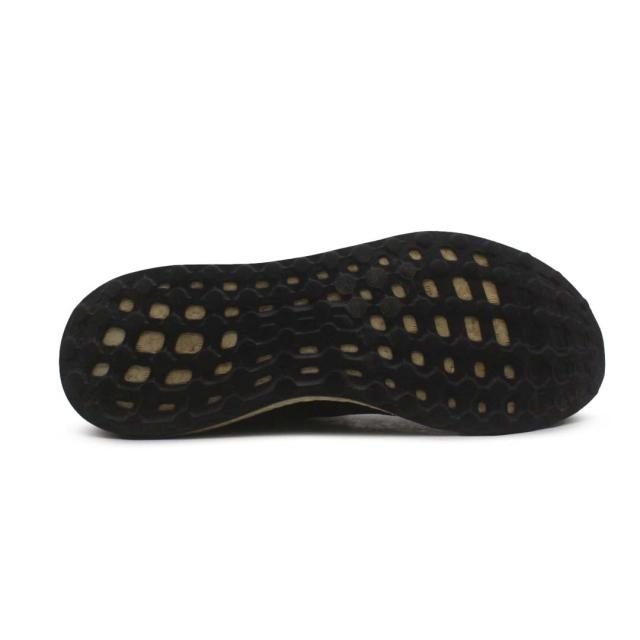outersole: (54, 231, 603, 439)
